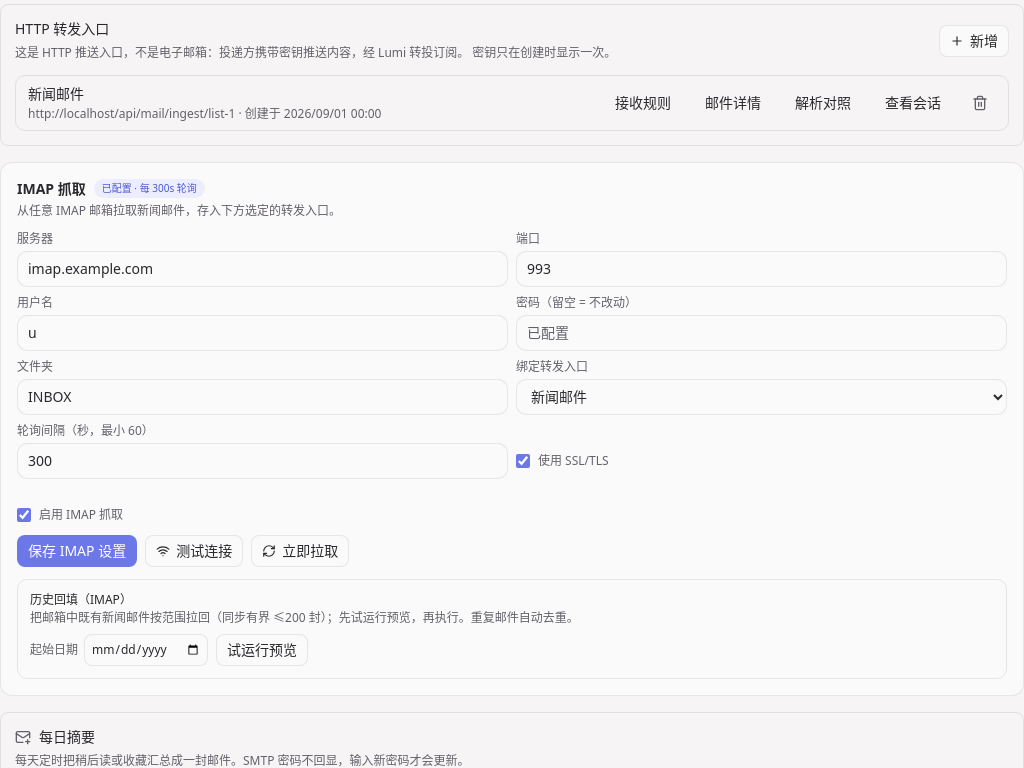
Test: F104 解析对照对话框 › F104: Message-ID 门 → 结构快照树与统计渲染
The width and height of the screenshot is (1024, 768).
Expected: the text "新闻邮件" is shown, [28, 84, 84, 102]
Click the button "解析对照" at {"x": 823, "y": 102}, box [784, 86, 862, 118]
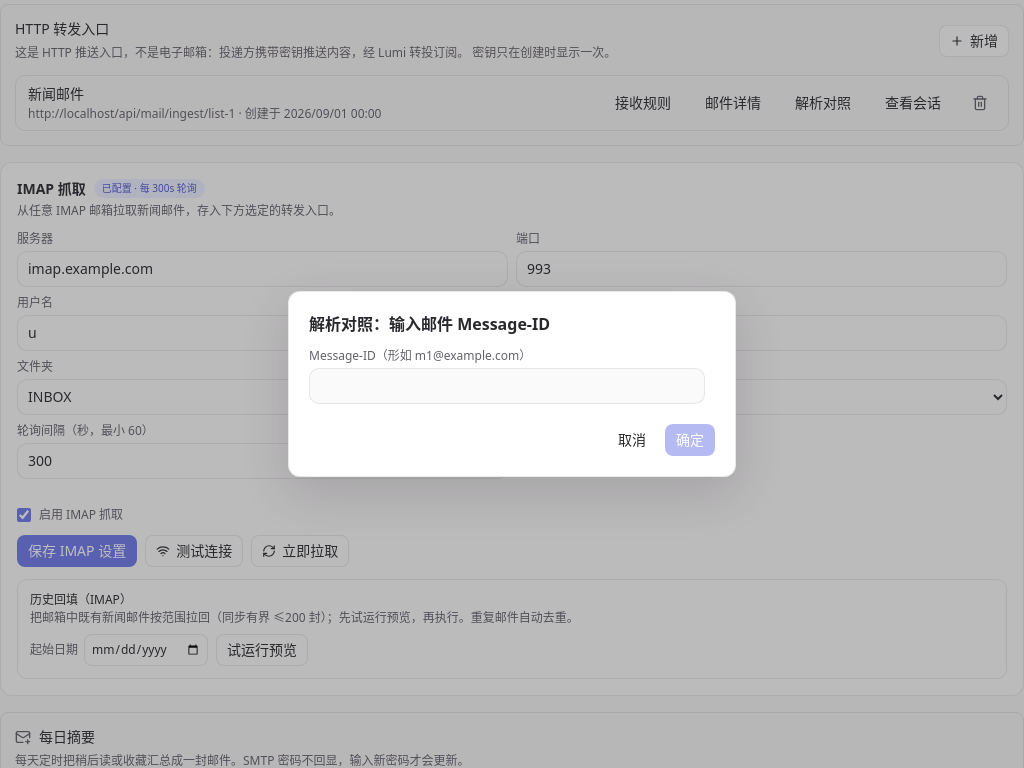
Type "m1@example.com" into the field named "邮件 Message-ID" at {"x": 507, "y": 386}, box [309, 368, 705, 404]
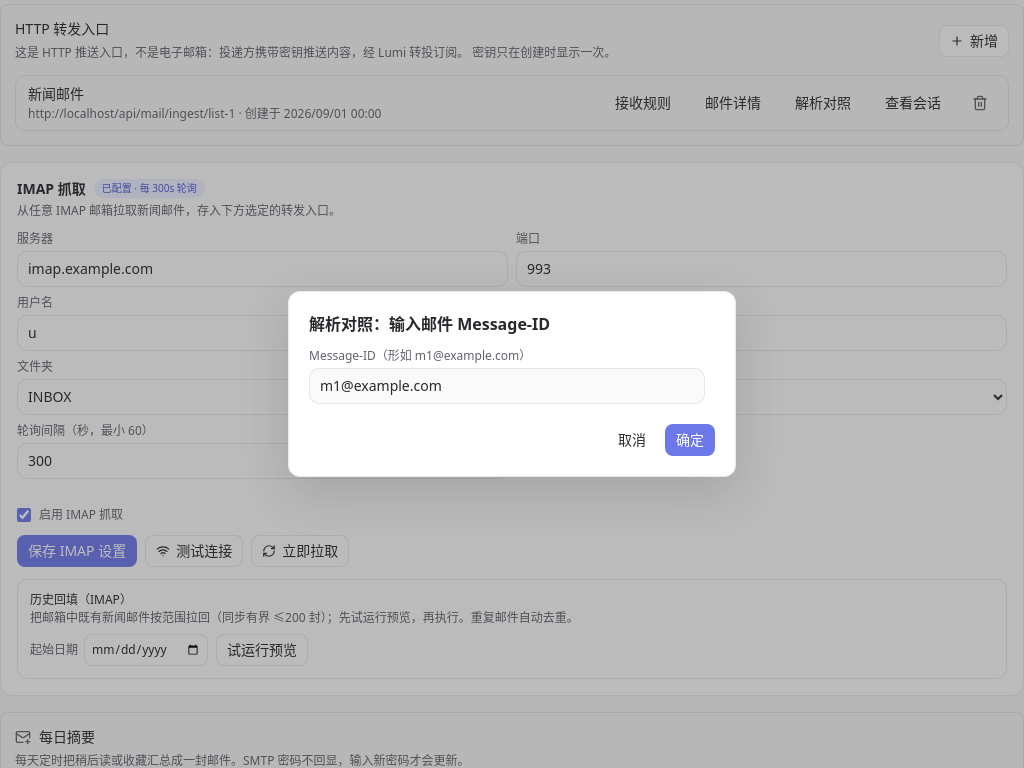
Click the button "确定" at {"x": 690, "y": 440}, box [665, 424, 715, 456]
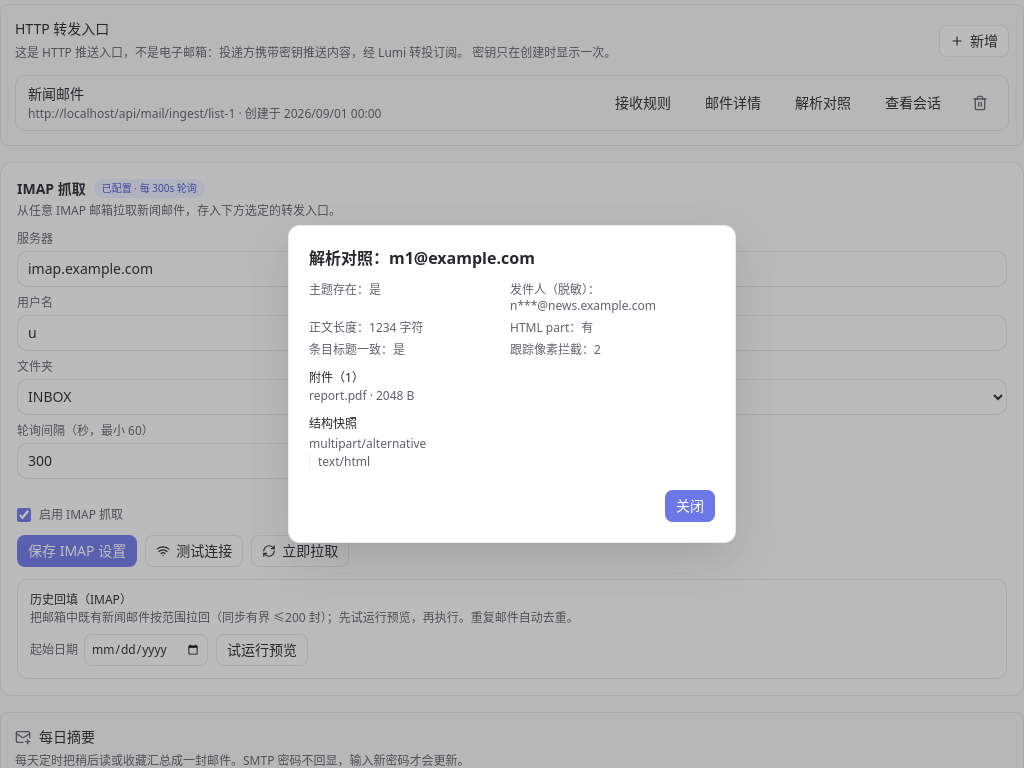
Expected: the text "multipart/alternative" is shown, [309, 435, 426, 452]
Expected: the text "text/html" is shown, [318, 453, 370, 470]
